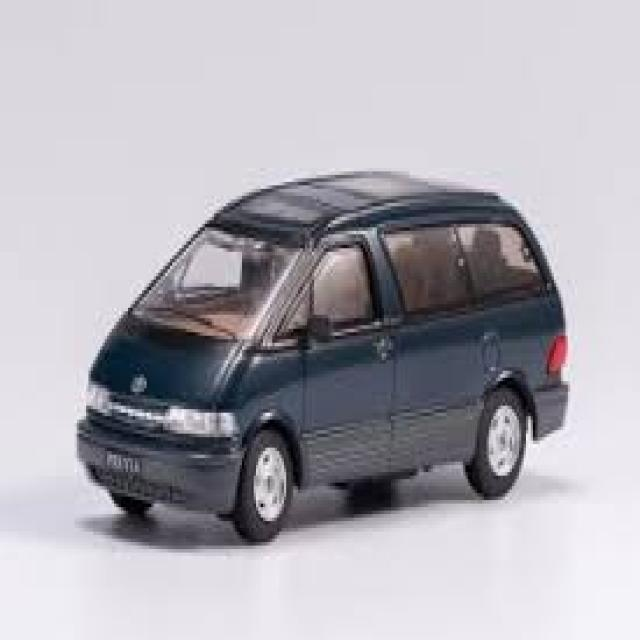Van: (77, 171, 575, 542)
